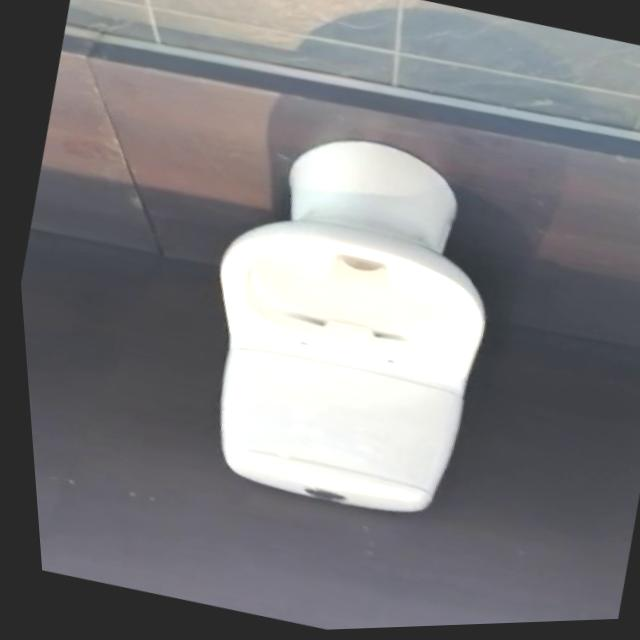toilet: (153, 109, 528, 539)
